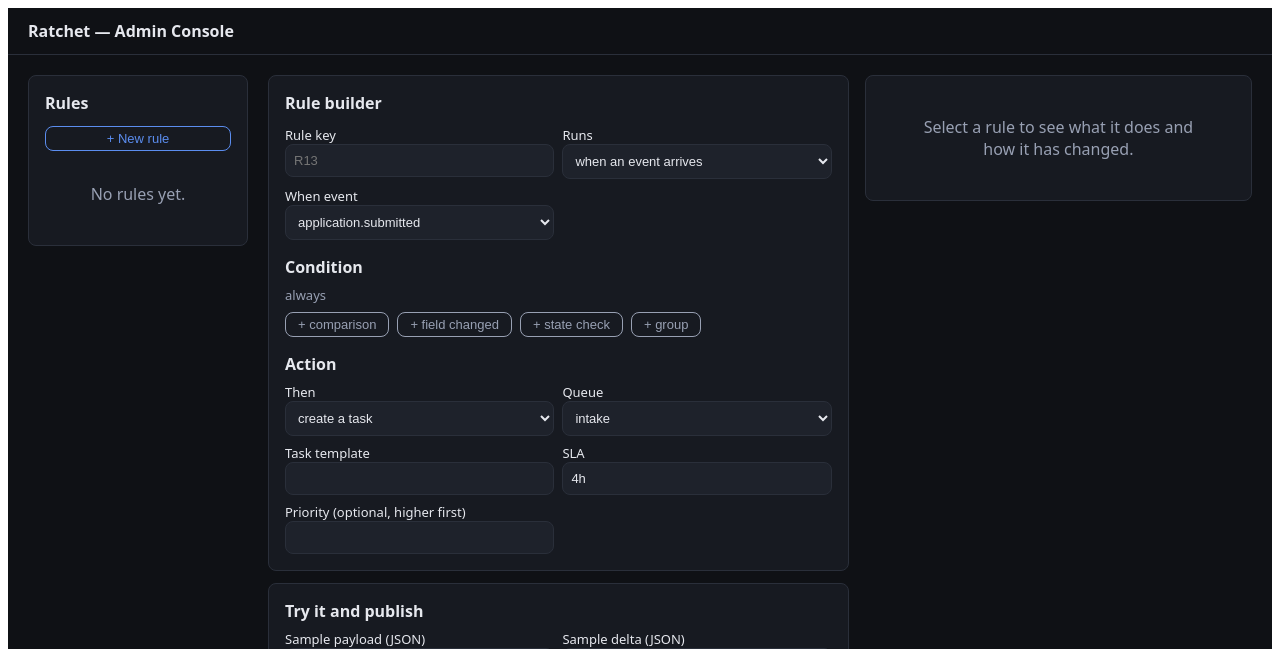
adding a condition updates the rendered condition summary
Check: the text "always" is shown, box [285,286,326,304]
Click the button "+ field changed".
click(455, 324)  # box [397,312,512,337]
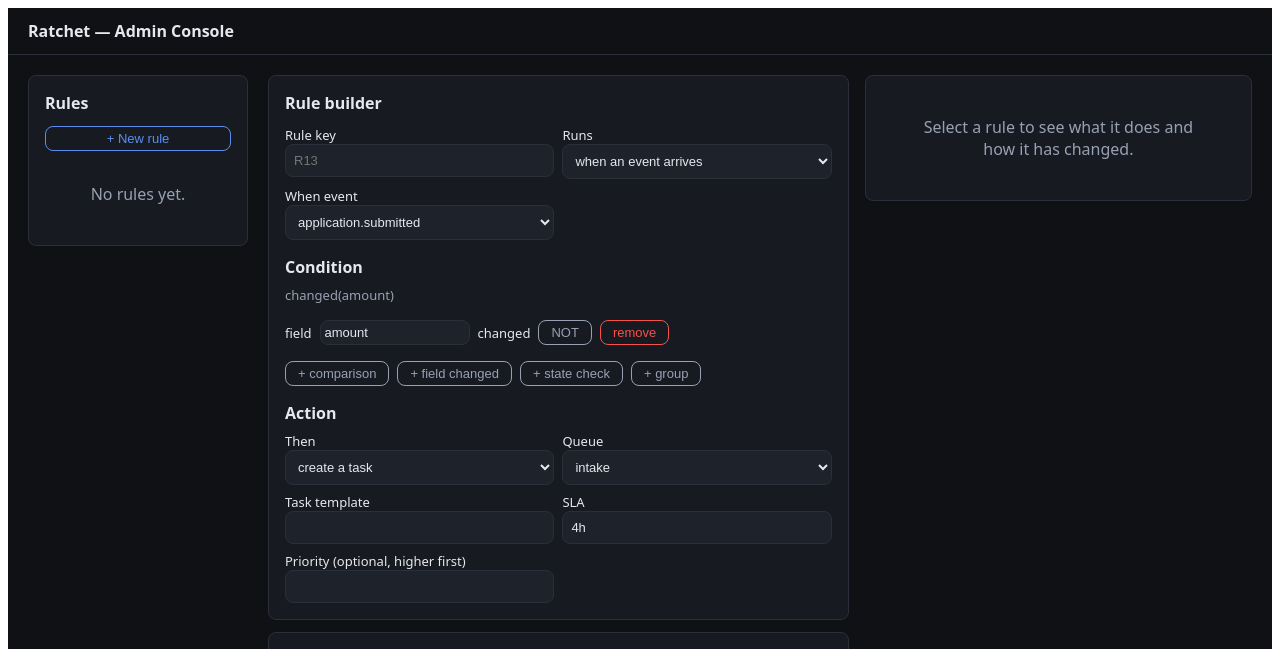
Check: the text "changed(amount)" is shown, box [285,286,394,304]
